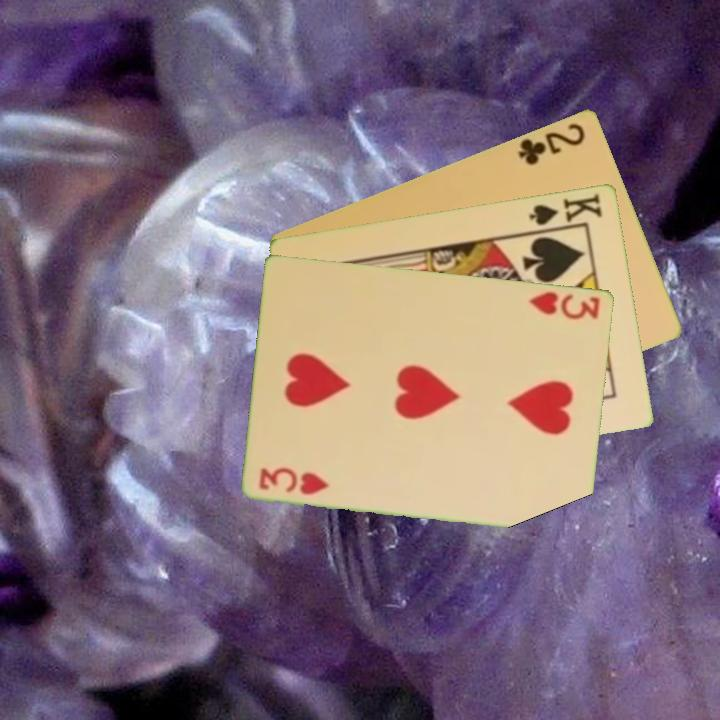2c: (515, 119, 588, 168)
3h: (526, 288, 603, 322), (256, 464, 333, 498)
Ks: (526, 189, 606, 234)
